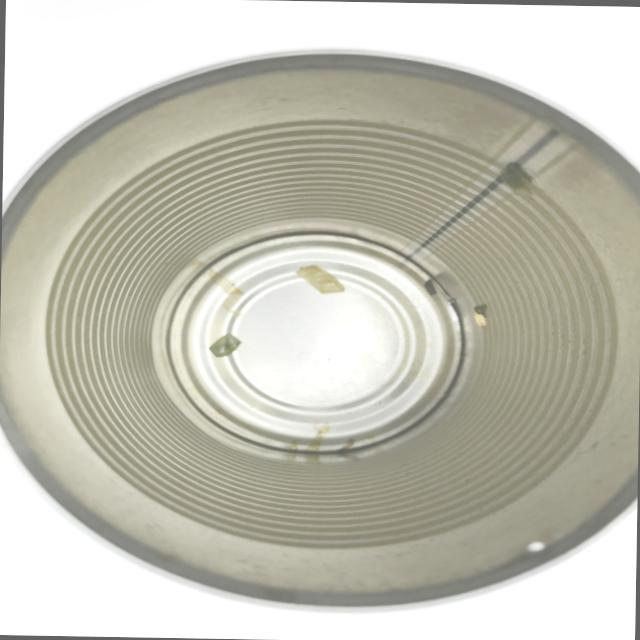Metal: (0, 34, 640, 623)
